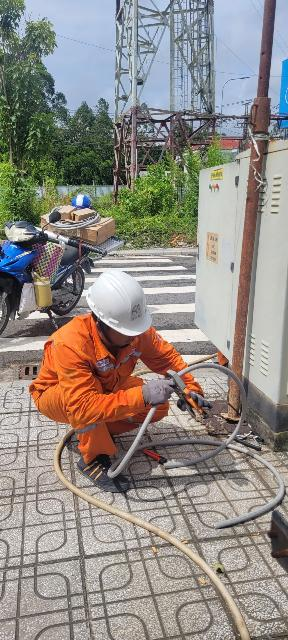gloves: (163, 371, 217, 422), (142, 371, 179, 410)
helmet: (79, 261, 164, 343)
shoes: (81, 446, 126, 491)
